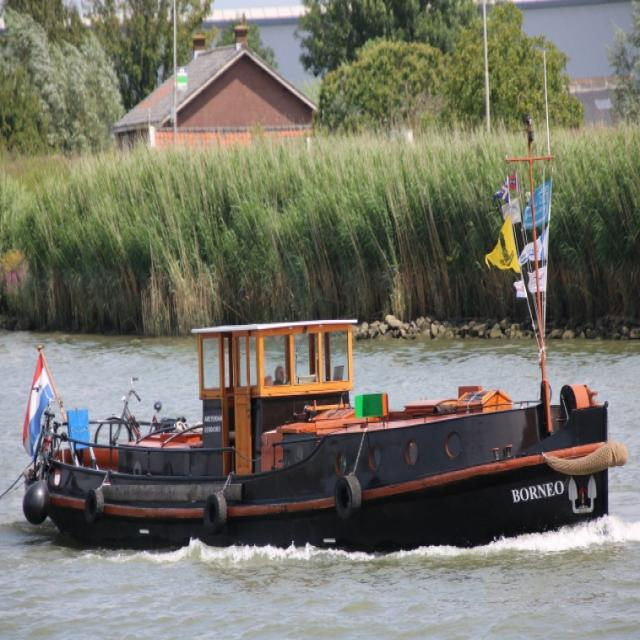tugboat: (14, 302, 633, 580)
